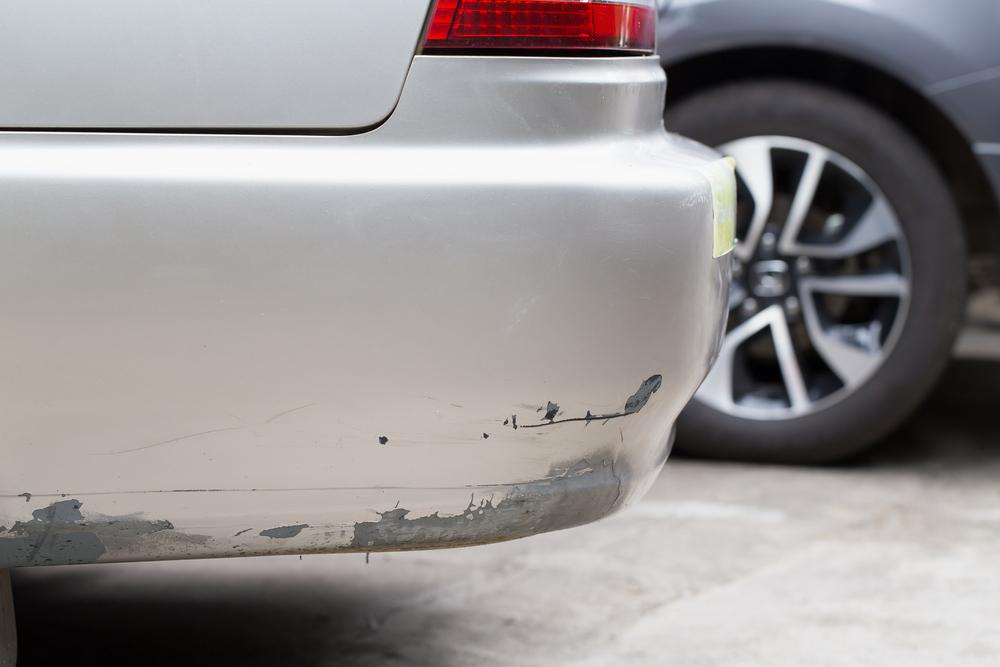scratch: (0, 367, 667, 567)
